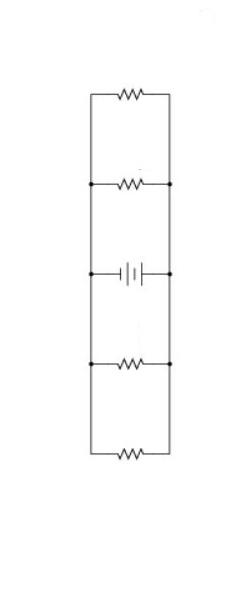resistor: (93, 68, 167, 112), (98, 429, 166, 465), (94, 346, 172, 374), (101, 162, 154, 202)
